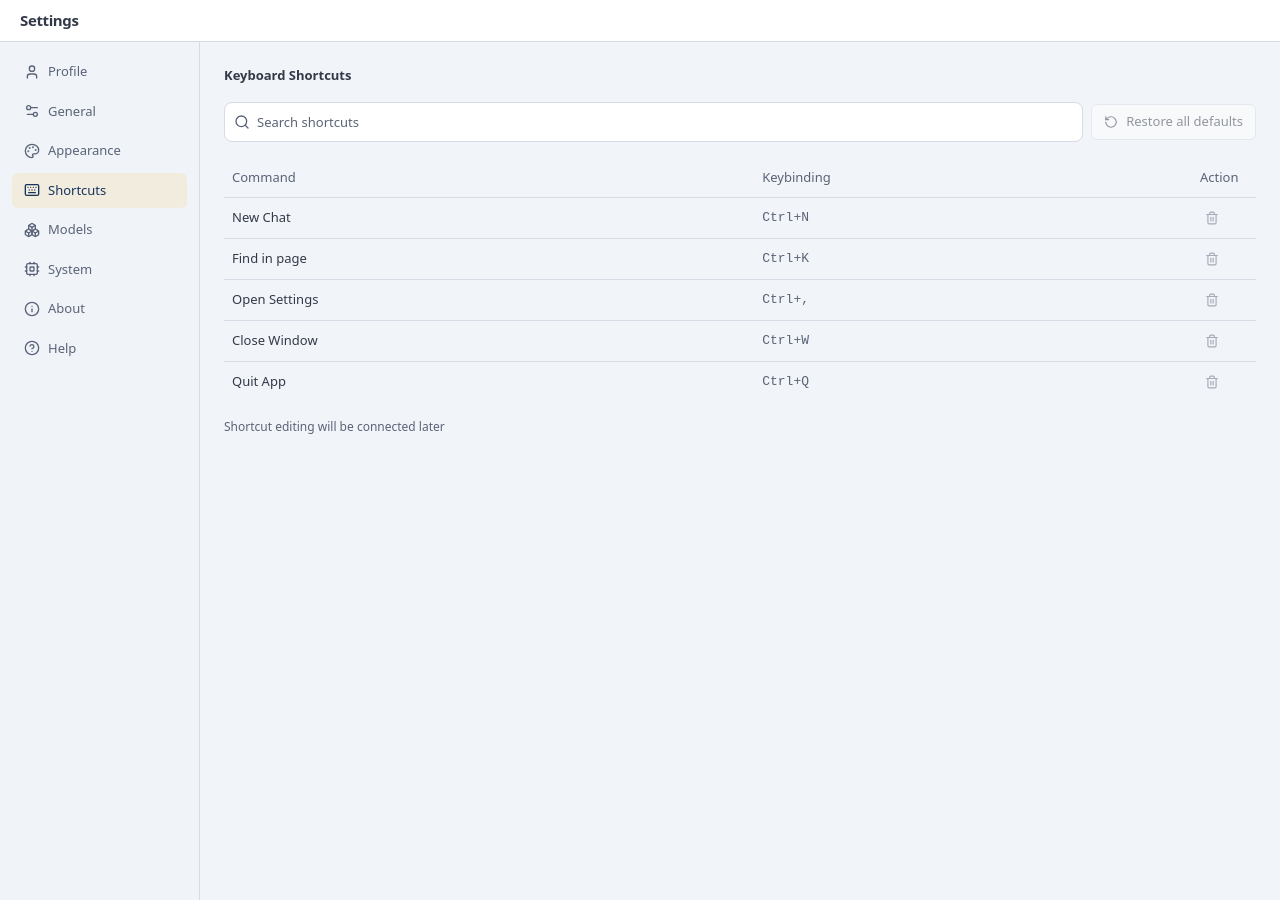
Test case: SettingsWindow · 铺满窗口两栏（V0.4.5 B5·F-29） › 点击导航切换分区 → 内容切换且 URL ?section= 同步
This screenshot has width=1280, height=900.
Click the button with test id "settings-window-nav-help": point(100, 348) [12,330,187,366]
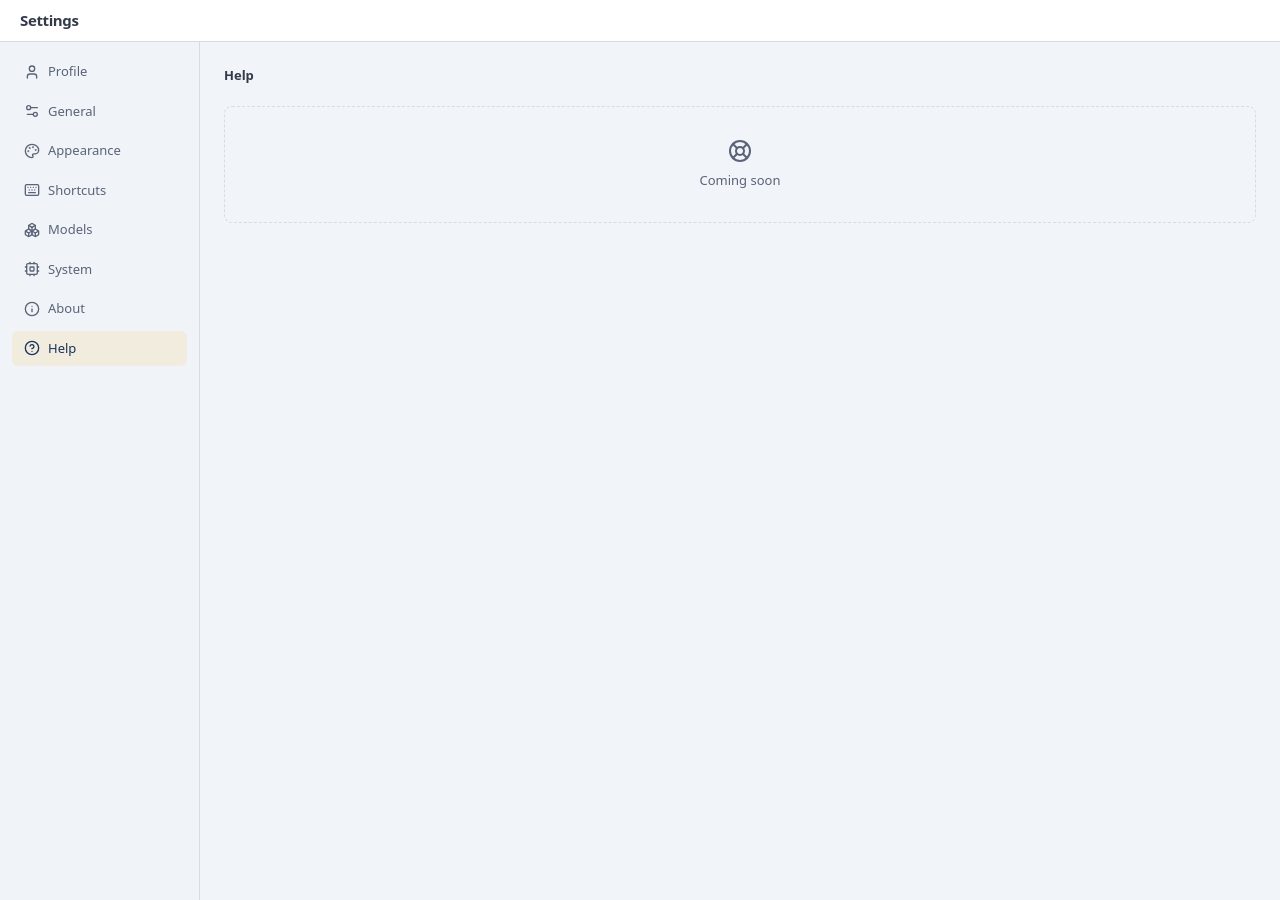
Check: the element with test id "settings-shortcuts" is gone
